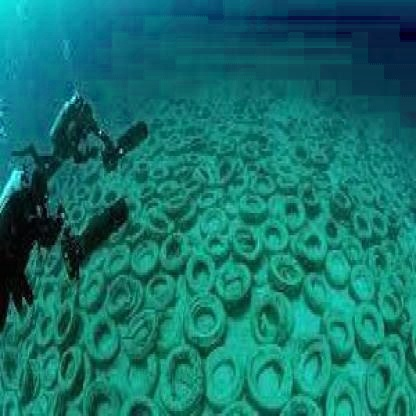tire: (148, 106, 416, 416), (1, 277, 147, 416)
